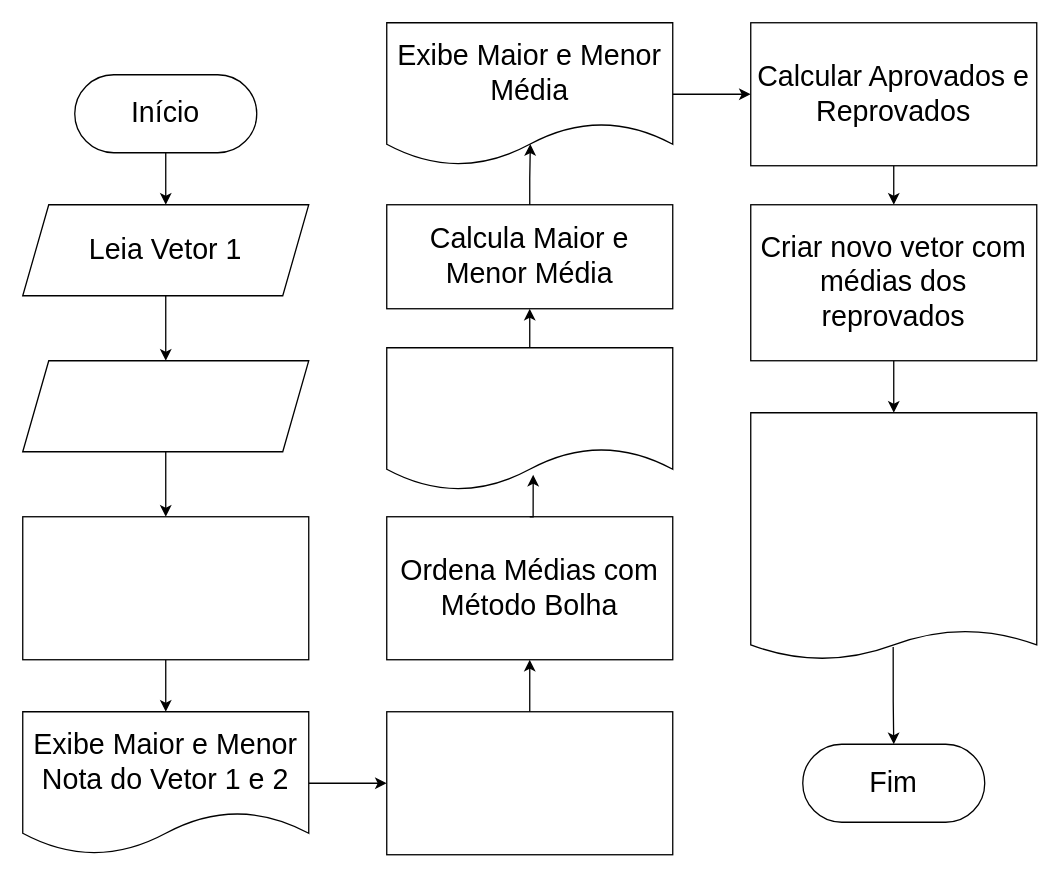
Some shapes in this 1060 by 877 pixel diagram are drawn without their labels. Here are the shapes that lost their labels. From the top down, the centre of each, then its label:
(x=165, y=405): Leia Vetor 2
(x=529, y=418): Exibe as Médias em Ordem Crescente
(x=893, y=535): Exibe quantidade de aprovados, quantidade de reprovados e médias dos reprovados
(x=165, y=587): Calcula Maior e Menor Nota do Vetor 1 e 2
(x=529, y=782): Calcula as Médias das Notas
